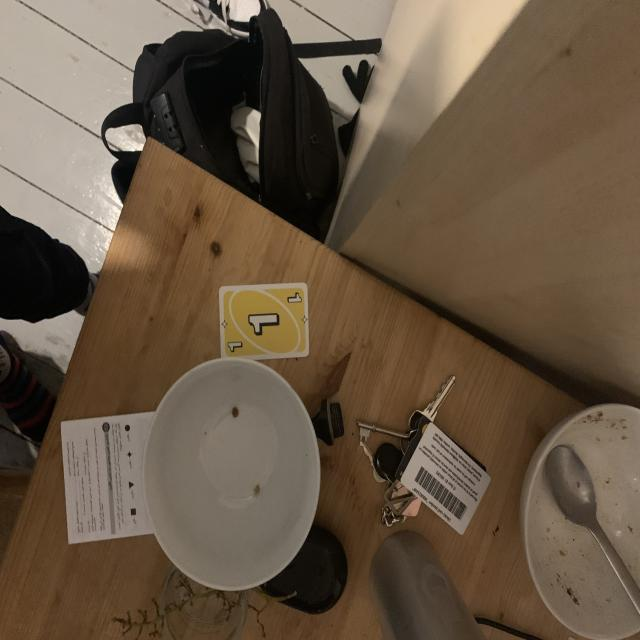lyellow-1: (283, 288, 304, 309)
